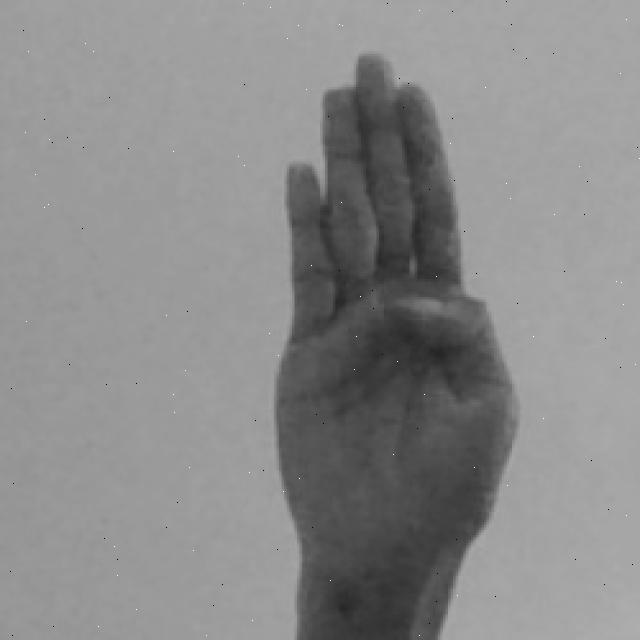B: (268, 48, 522, 640)
